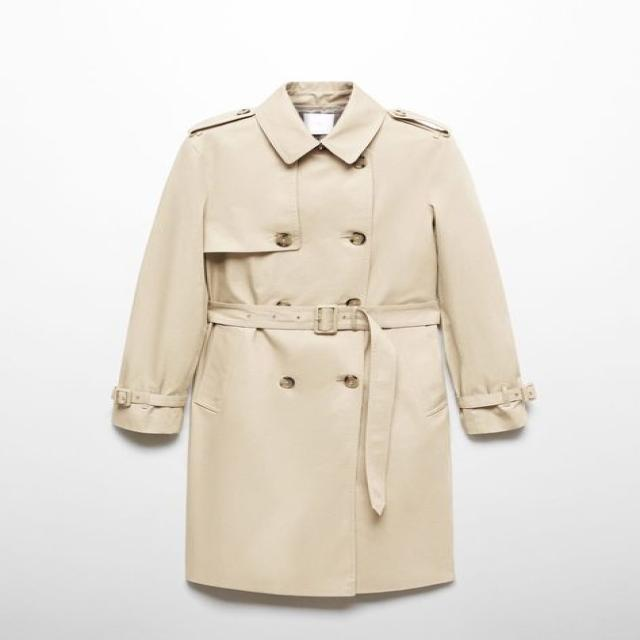coat: (100, 79, 539, 611)
